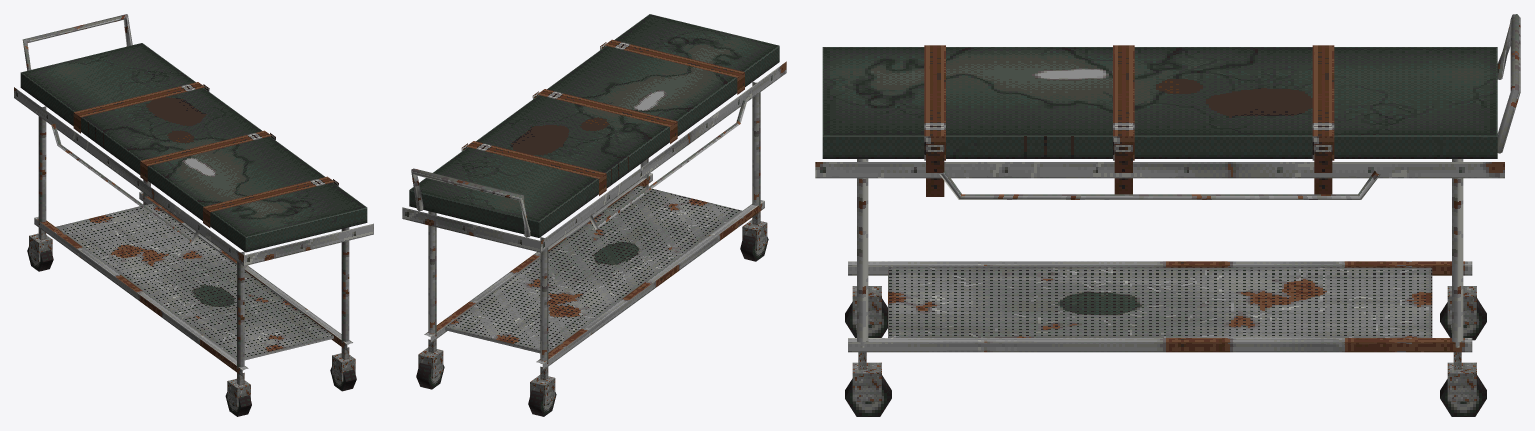
File: gurney.glb
3 views of the same model, side by side, from view 1: azimuth 30°, elevation 25°; view 2: azimuth 150°, elevation 25°; view 3: azimuth 270°, elevation 25° (orthographic). The views are drawn at different scales.
Visible parts, largest first — view 1: gurney; view 2: gurney; view 3: gurney.
Boxes of the visible parts, bbox=[...] form: gurney: bbox=[14, 14, 373, 416]; gurney: bbox=[402, 14, 786, 416]; gurney: bbox=[815, 14, 1520, 416].
Size of the model in its own units: 0.67 by 0.9802 by 1.94.
1 material, 1 textured.
